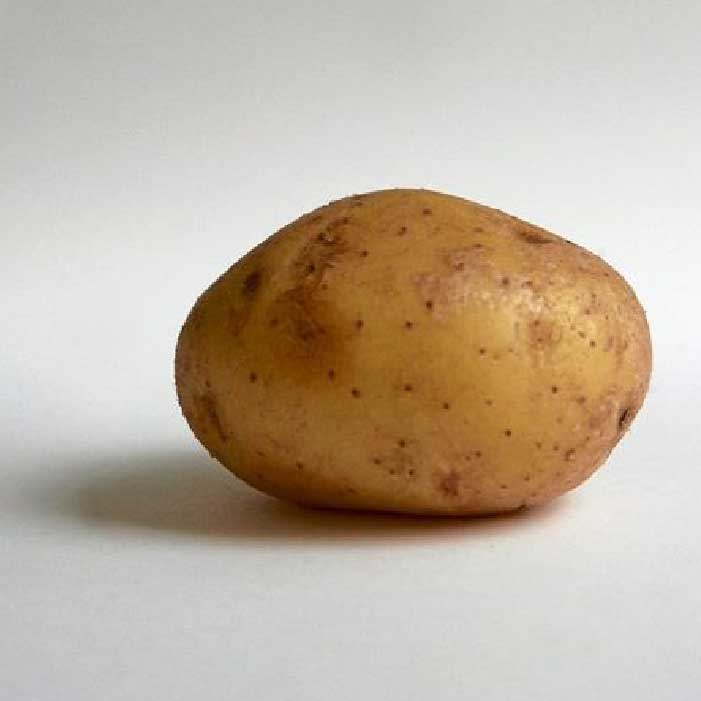Kartoffel: (176, 190, 654, 516)
